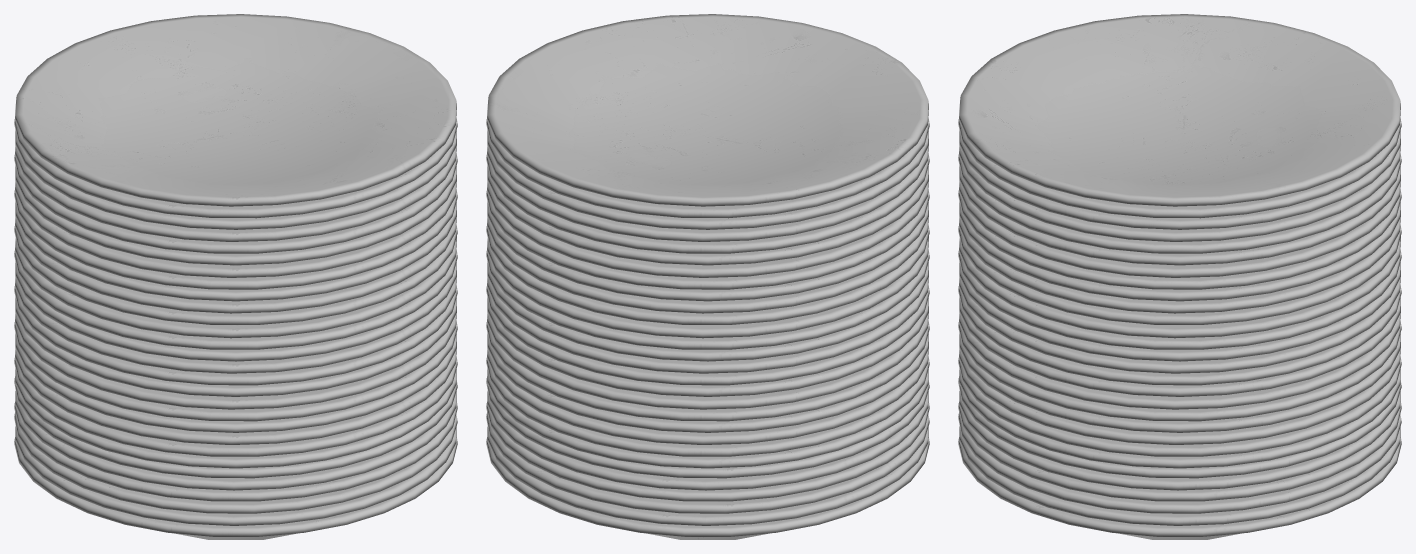
The model's file is SM_Dishes_A4.fbx.
3 views of the same model, side by side, from view 1: azimuth 30°, elevation 25°; view 2: azimuth 150°, elevation 25°; view 3: azimuth 270°, elevation 25° (orthographic).
Parts seen in each view (by area): view 1: SM_Dishes_A4; view 2: SM_Dishes_A4; view 3: SM_Dishes_A4.
Part boxes in pixels (x1,y1,x2,y2): SM_Dishes_A4: (14, 14, 457, 539); SM_Dishes_A4: (486, 14, 929, 539); SM_Dishes_A4: (958, 14, 1401, 539).
Size of the model in its own units: 24.11 by 24.11 by 22.69.
Materials: 1 (1 with a texture image).
